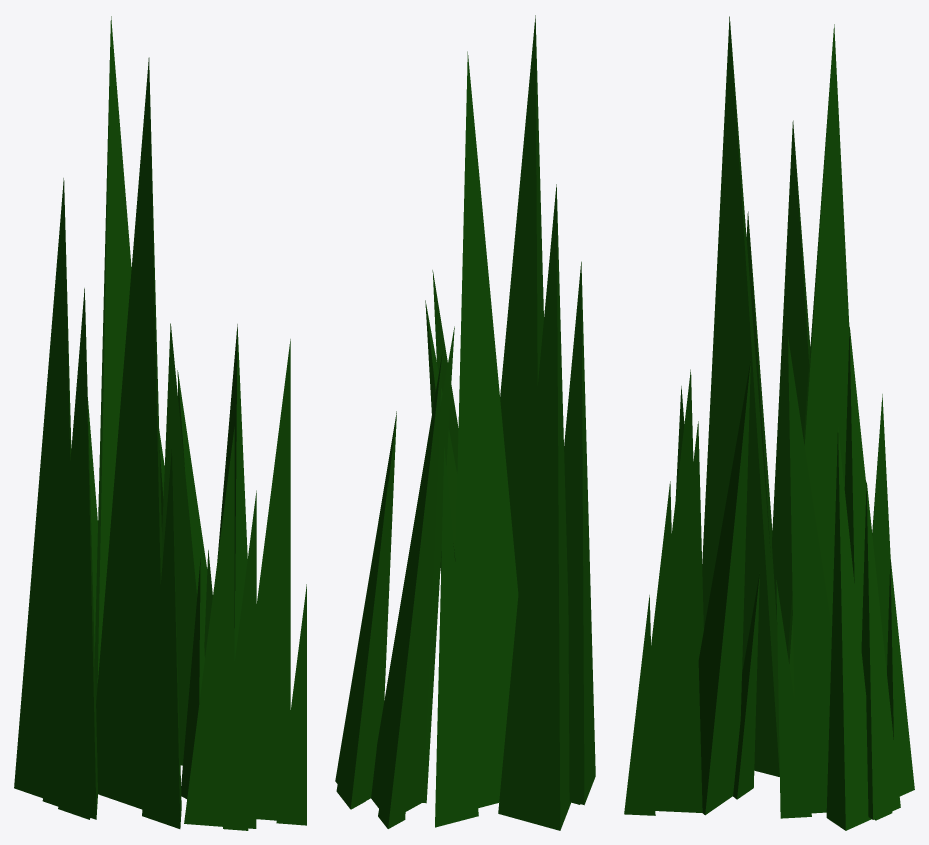
File: trawa2.fbx
3 views of the same model, side by side, from view 1: azimuth 30°, elevation 25°; view 2: azimuth 150°, elevation 25°; view 3: azimuth 270°, elevation 25° (orthographic).
Visible parts, largest first — view 1: Cone; view 2: Cone; view 3: Cone.
Part boxes in pixels (x1,y1,x2,y2): Cone: (14, 16, 306, 830); Cone: (335, 15, 595, 830); Cone: (624, 16, 914, 830).
Size of the model in its own units: 238 by 786 by 274.
